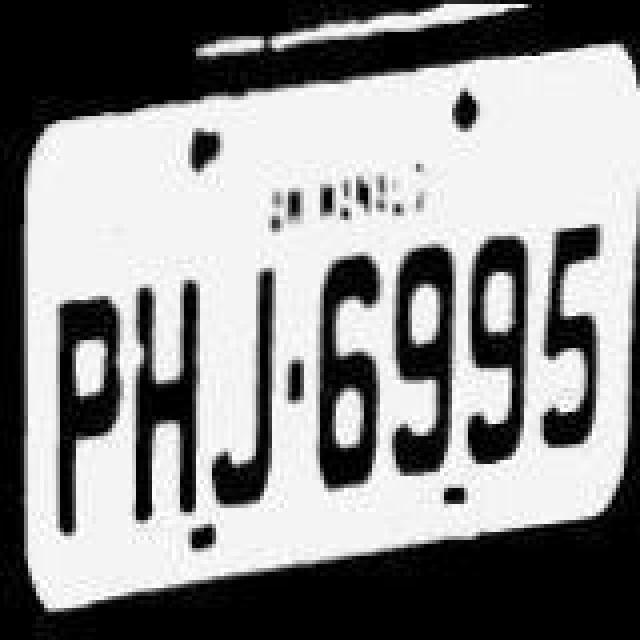5: (534, 200, 606, 464)
6: (310, 238, 382, 502)
9: (386, 230, 458, 494), (462, 226, 534, 482)
H: (128, 270, 204, 530)
J: (202, 258, 282, 514)
P: (50, 284, 122, 548)
